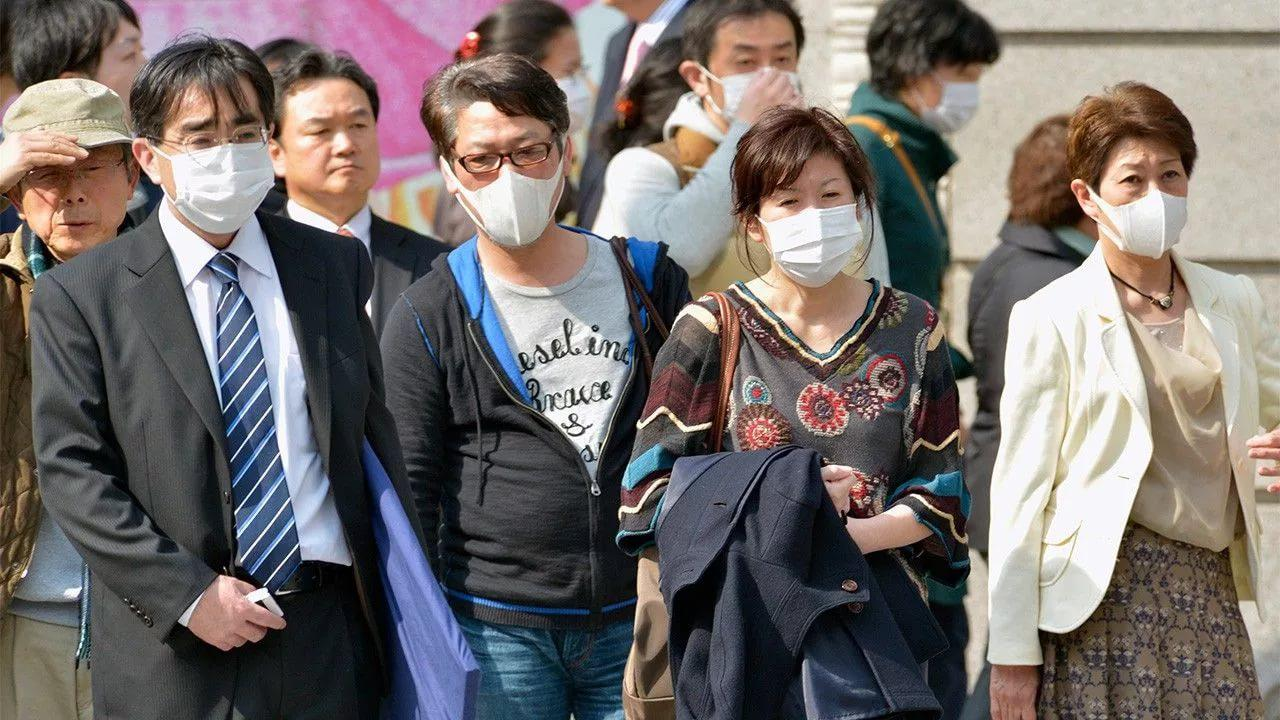mask: (445, 93, 563, 247), (164, 79, 271, 225), (1098, 134, 1199, 259), (770, 142, 859, 279), (712, 17, 800, 127), (911, 34, 996, 130)
none: (283, 78, 381, 196), (27, 162, 126, 253)
